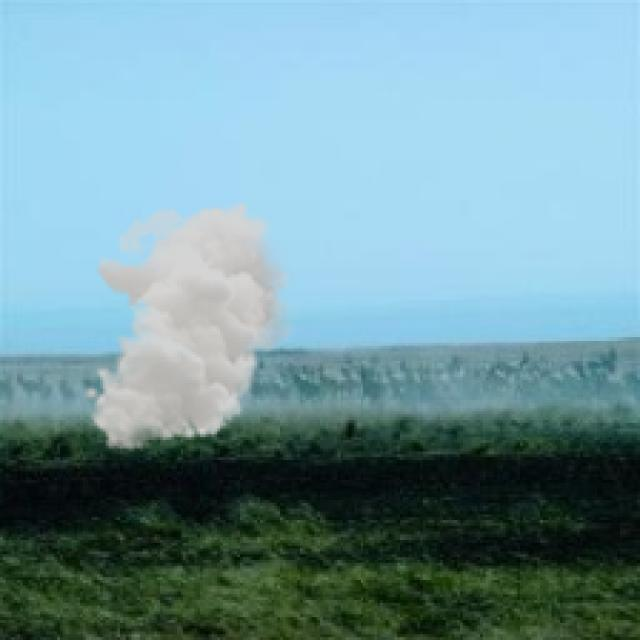Smoke: (83, 199, 300, 452)
